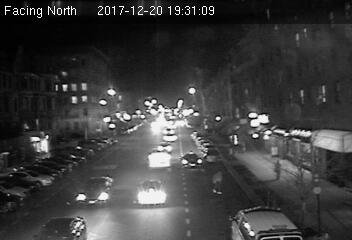car: (74, 176, 114, 206), (135, 179, 166, 206), (179, 151, 202, 168), (155, 141, 172, 154)
pedestrian: (210, 168, 226, 198)
police: (225, 206, 303, 240)
